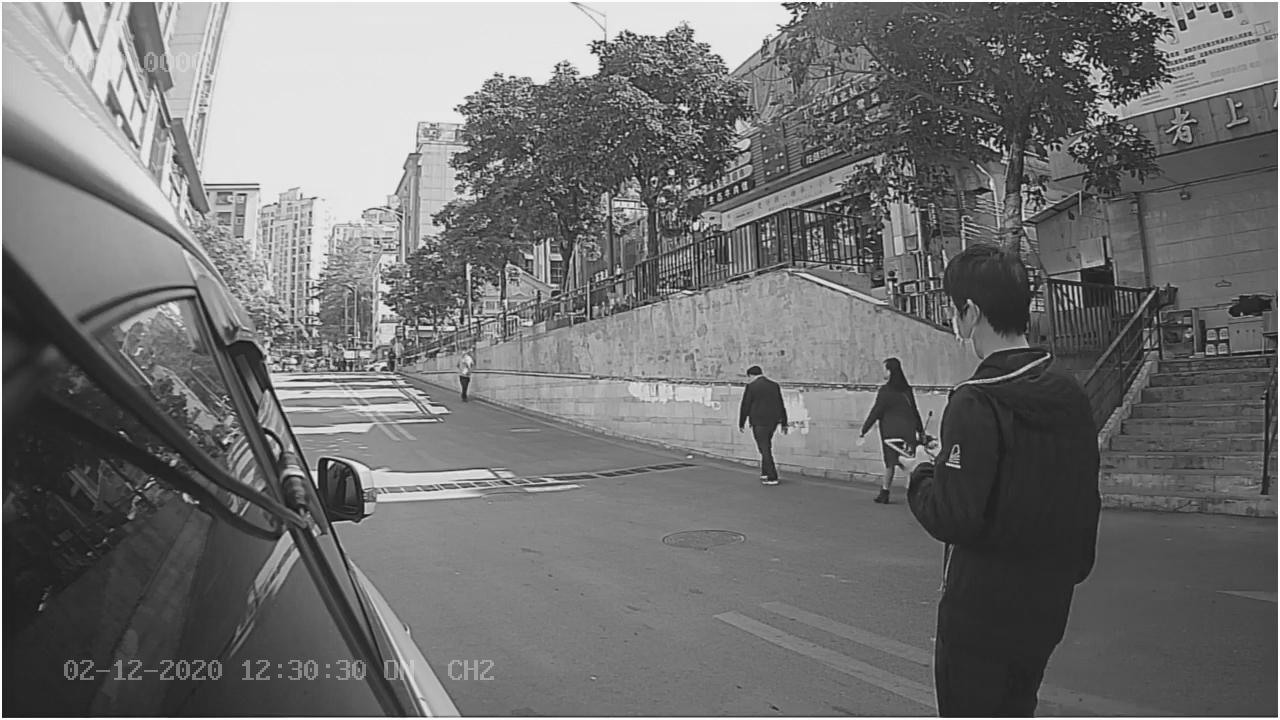person: (890, 239, 1106, 502), (716, 353, 804, 504)
